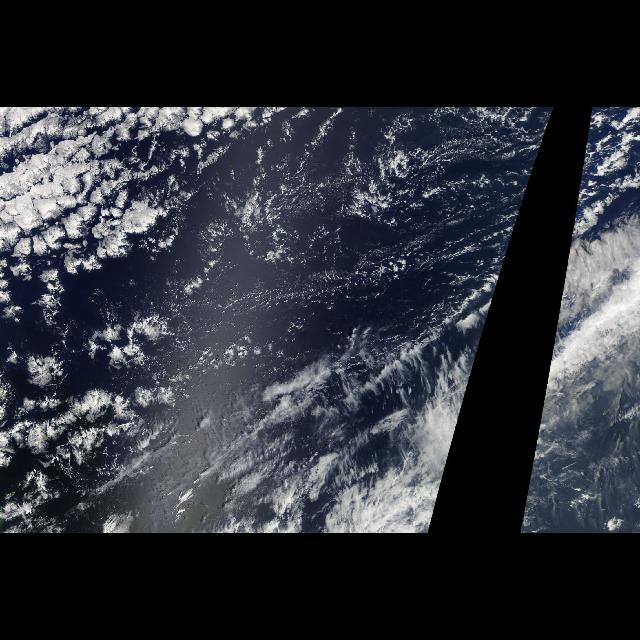Sugar: (205, 120, 550, 336), (554, 296, 560, 336)
